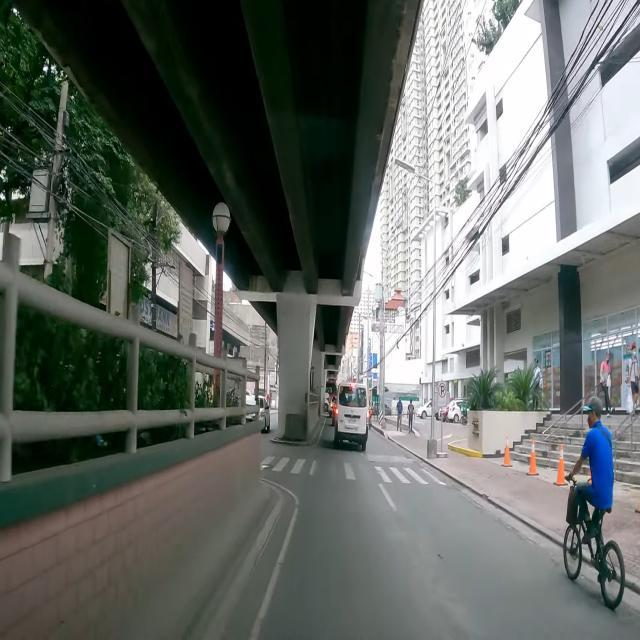bike: (562, 398, 626, 617), (368, 400, 372, 430)
bus: (324, 381, 337, 412)
car: (333, 381, 369, 451), (246, 396, 270, 436), (416, 400, 432, 420)
